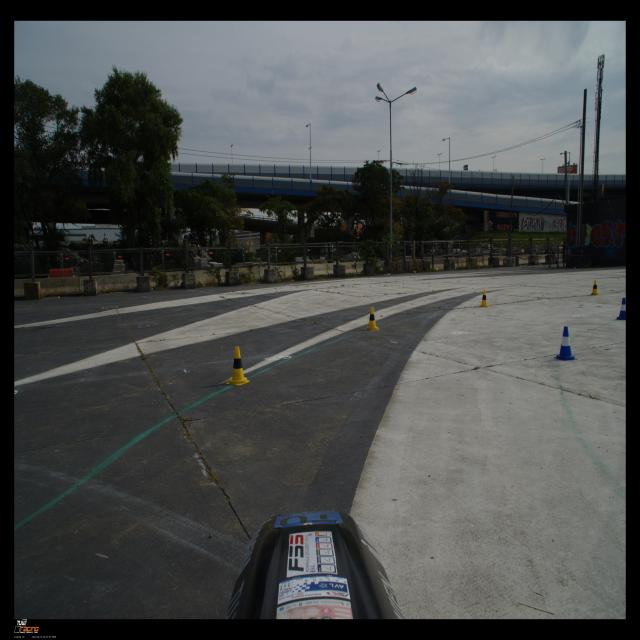blue_cone: (554, 326, 578, 361), (615, 298, 626, 320)
yellow_cone: (226, 347, 250, 385), (365, 307, 380, 331), (479, 290, 488, 307), (590, 280, 600, 295)
